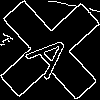A: (25, 25, 82, 81)
